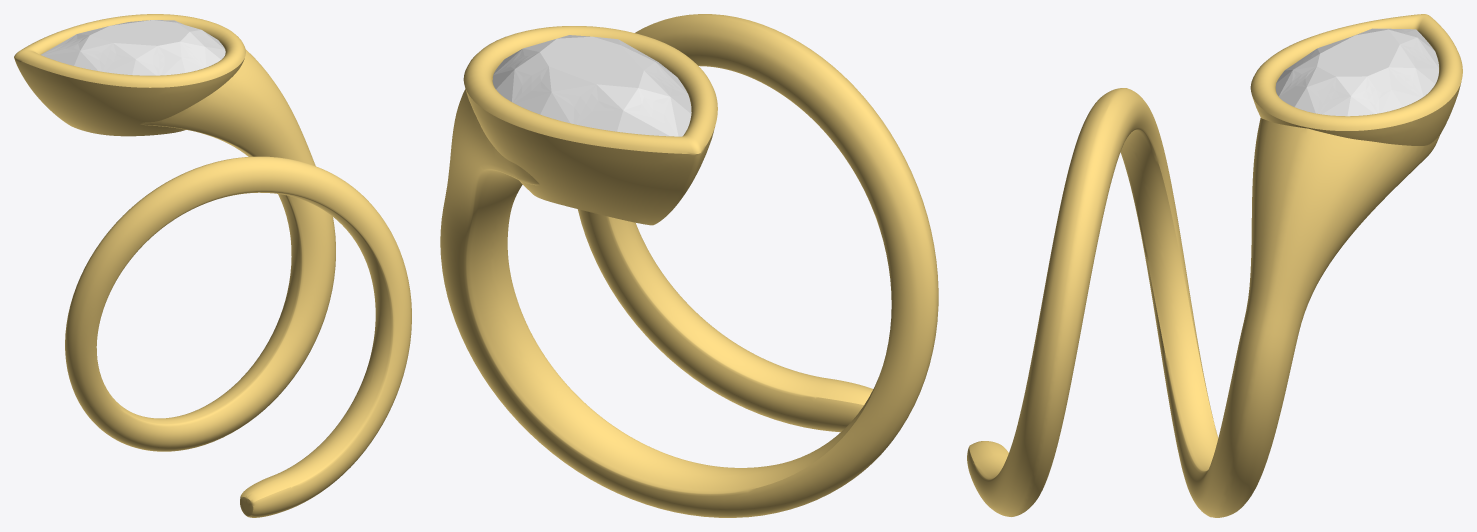
The model's file is OrielV2_blender.glb.
The picture shows the model from 3 angles, left to right: view 1: azimuth 30°, elevation 25°; view 2: azimuth 150°, elevation 25°; view 3: azimuth 270°, elevation 25°; orthographic projection. The views are drawn at different scales.
Parts seen in each view (by area): view 1: Oriel YG no eyes for 3d model, Oriel dia pear only for 3d model; view 2: Oriel YG no eyes for 3d model, Oriel dia pear only for 3d model; view 3: Oriel YG no eyes for 3d model, Oriel dia pear only for 3d model.
Part boxes in pixels (box(x1,y1,x2,y2)): Oriel YG no eyes for 3d model: box(14, 14, 411, 517); Oriel dia pear only for 3d model: box(41, 20, 225, 75); Oriel YG no eyes for 3d model: box(440, 14, 938, 517); Oriel dia pear only for 3d model: box(492, 35, 691, 136); Oriel YG no eyes for 3d model: box(967, 14, 1462, 517); Oriel dia pear only for 3d model: box(1275, 28, 1438, 116).
Size of the model in its own units: 19.4 by 22.16 by 22.18.
